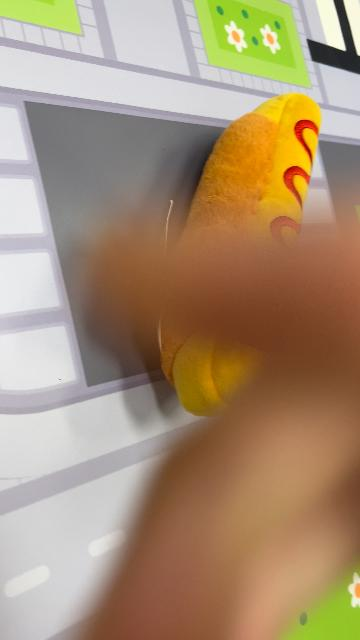hotdog: (156, 90, 324, 420)
